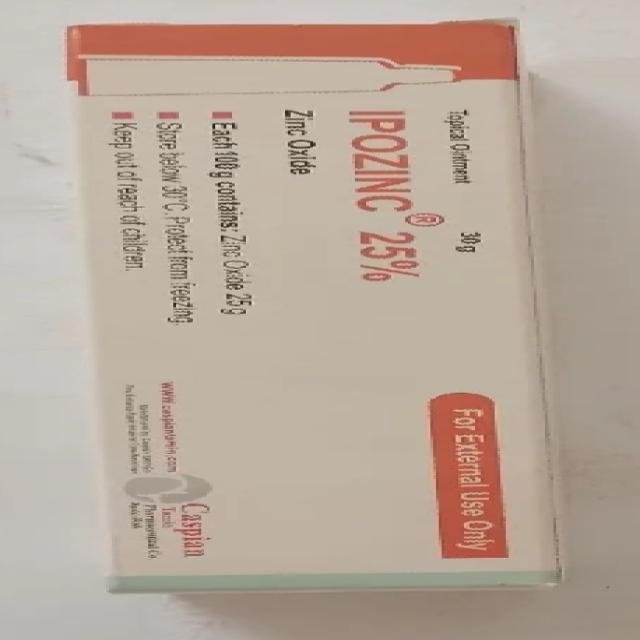drug-name: (346, 102, 426, 288)
